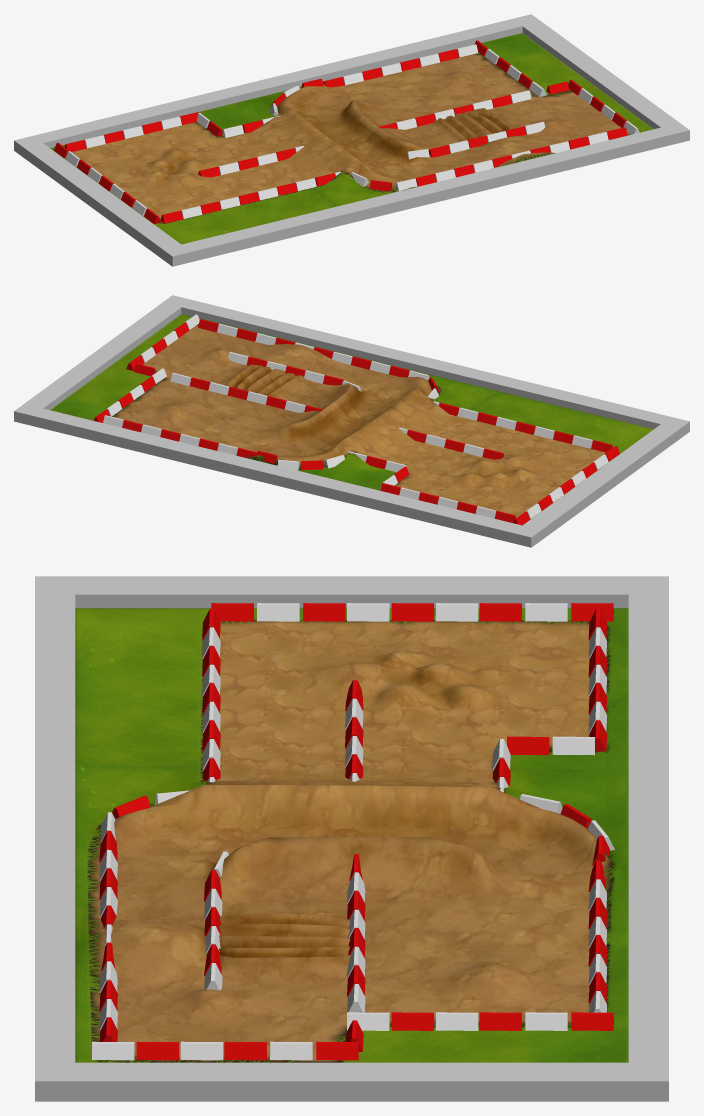
File: new blaster.fbx
3 views of the same model, one above another, from view 1: azimuth 30°, elevation 25°; view 2: azimuth 150°, elevation 25°; view 3: azimuth 270°, elevation 25° (orthographic). The views are drawn at different scales.
Visible parts, largest first — view 1: polySurface1, polySurface2; view 2: polySurface1, polySurface2; view 3: polySurface1, polySurface2, pCube79, pCube53, pCube80, pCube56, pCube83, pCube82, pCube78, pCube60, pCube59, pCube57 (+10 smaller).
Boxes of the visible parts, x1=… form: polySurface1: x1=50, y1=33, x2=653, y2=244; polySurface2: x1=14, y1=14, x2=689, y2=266; polySurface1: x1=50, y1=314, x2=653, y2=525; polySurface2: x1=14, y1=295, x2=689, y2=547; polySurface1: x1=75, y1=608, x2=628, y2=1062; polySurface2: x1=35, y1=576, x2=668, y2=1101; pCube79: x1=435, y1=1012, x2=478, y2=1030; pCube53: x1=435, y1=603, x2=478, y2=621; pCube80: x1=391, y1=1012, x2=434, y2=1030; pCube56: x1=391, y1=603, x2=434, y2=621; pCube83: x1=571, y1=1012, x2=613, y2=1030; pCube82: x1=525, y1=1012, x2=567, y2=1030; pCube78: x1=479, y1=1012, x2=521, y2=1030; pCube60: x1=257, y1=603, x2=299, y2=621; pCube59: x1=303, y1=603, x2=345, y2=621; pCube57: x1=525, y1=603, x2=567, y2=621.
Bounding box in the file's own units: 503 × 16.96 × 267.
